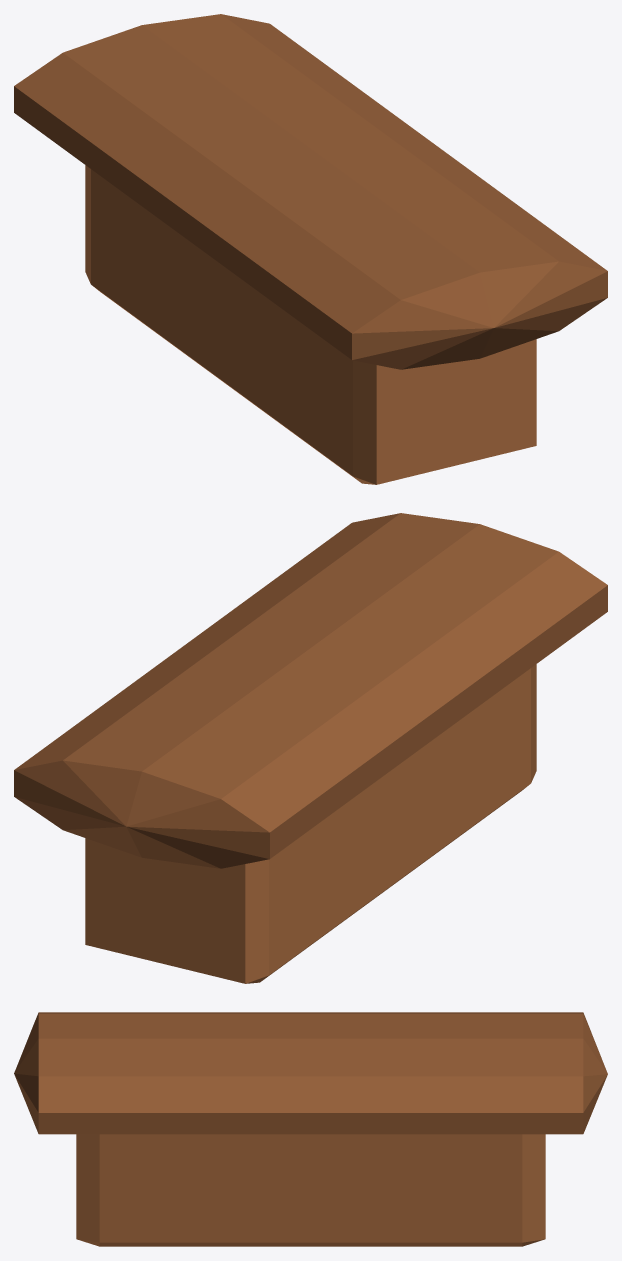
The model's file is BreadLoaf.fbx.
The picture shows the model from 3 angles, top to bottom: view 1: azimuth 30°, elevation 25°; view 2: azimuth 150°, elevation 25°; view 3: azimuth 270°, elevation 25°; orthographic projection. The views are drawn at different scales.
Parts seen in each view (by area): view 1: Cylinder, Cube; view 2: Cylinder, Cube; view 3: Cylinder, Cube.
Part boxes in pixels (x1,y1,x2,y2): Cylinder: (14, 14, 607, 369); Cube: (85, 165, 536, 484); Cylinder: (14, 513, 607, 868); Cube: (85, 664, 536, 983); Cylinder: (14, 1012, 607, 1134); Cube: (76, 1134, 545, 1246).
Size of the model in its own units: 32.49 by 26.6 by 81.06.
